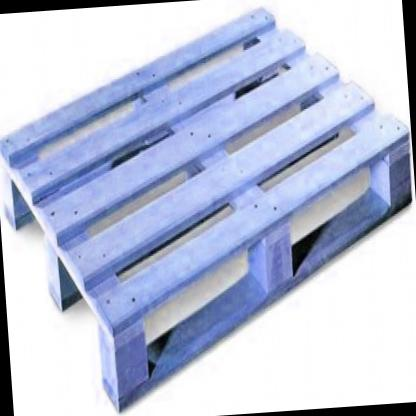BoxFace: (0, 5, 415, 416)
